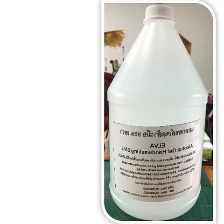cleaning_solution: (104, 2, 212, 223)
